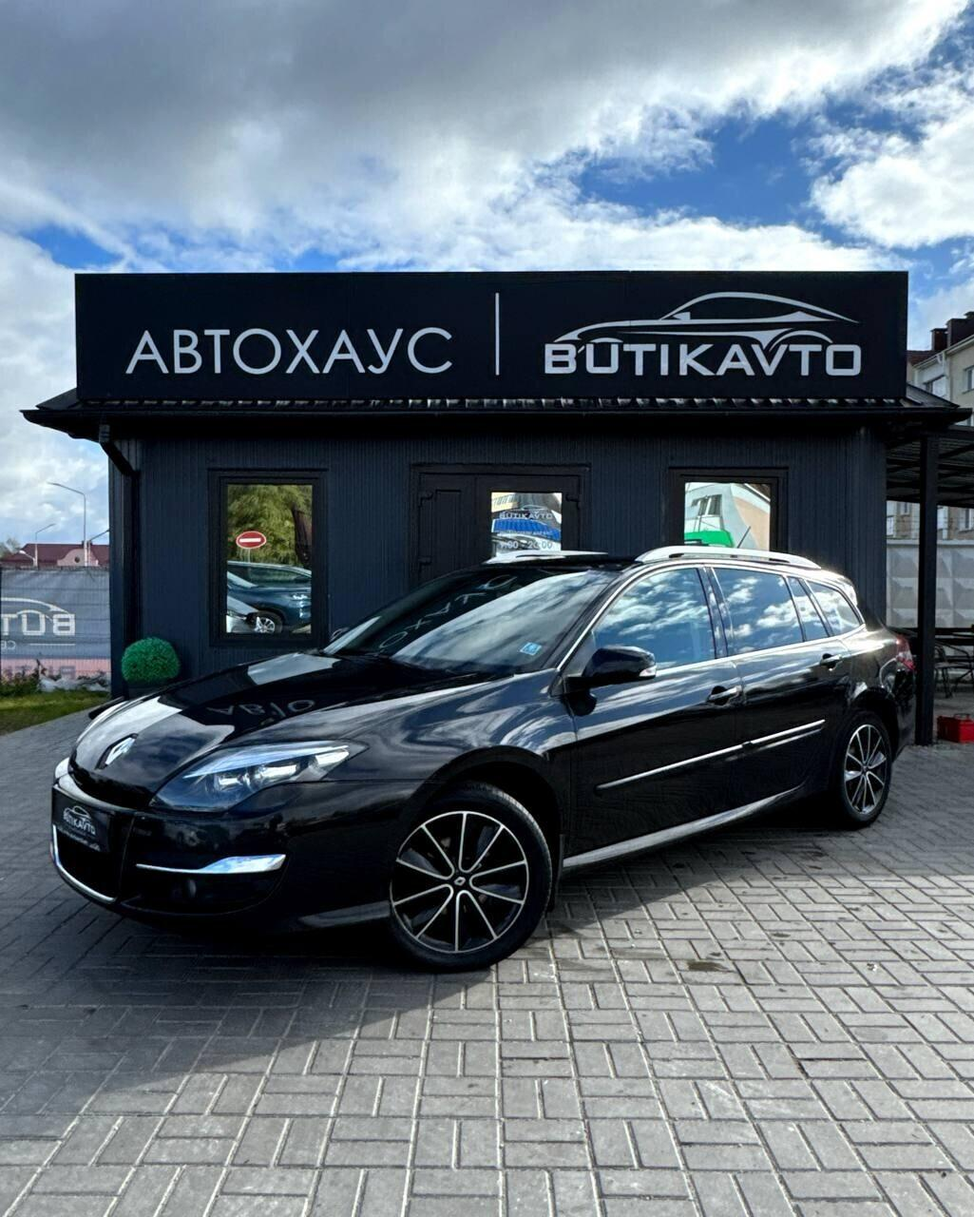Laguna_2010-2015: (30, 534, 917, 979)
